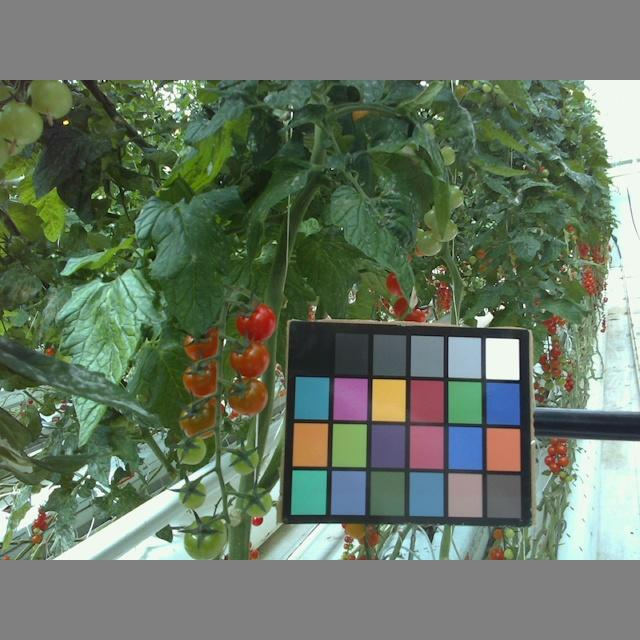green: (185, 516, 232, 560), (27, 81, 75, 121), (1, 101, 44, 145), (178, 478, 208, 511), (244, 488, 273, 519), (229, 445, 259, 474), (176, 439, 208, 464)
pink: (178, 401, 223, 440), (228, 377, 269, 416)
red: (235, 304, 278, 343), (227, 343, 270, 379), (182, 361, 223, 395), (183, 328, 223, 362)
